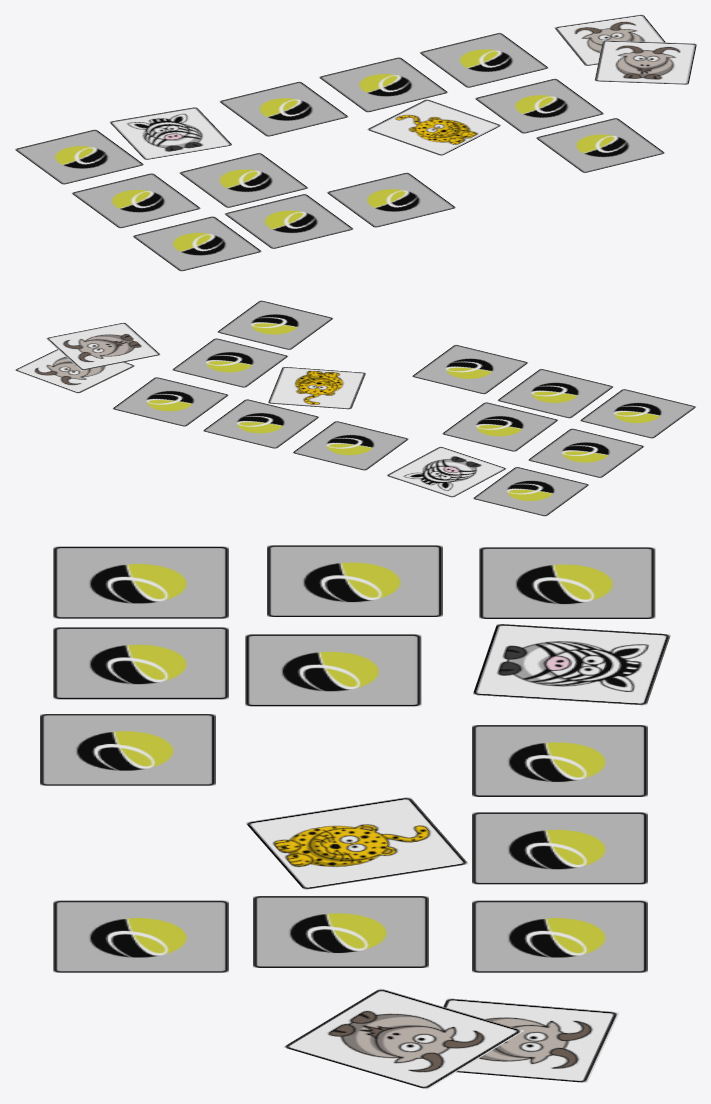
The model's file is MemoryTableObject.fbx.
3 renders of one model, top to bottom at view 1: azimuth 30°, elevation 25°; view 2: azimuth 150°, elevation 25°; view 3: azimuth 270°, elevation 25°, orthographic. The views are drawn at different scales.
Visible parts, largest first — view 1: pPlane14, pPlane2, pPlane6, pPlane9, pPlane12, pPlane15, pPlane3, pPlane4, pPlane5, pPlane8, pPlane10, pPlane11 (+3 smaller); view 2: pPlane1, pPlane14, pPlane2, pPlane3, pPlane4, pPlane5, pPlane12, pPlane7, pPlane8, pPlane9, pPlane6, pPlane11 (+3 smaller); view 3: pPlane11, pPlane6, pPlane7, pPlane9, pPlane12, pPlane15, pPlane1, pPlane14, pPlane2, pPlane3, pPlane4, pPlane5 (+3 smaller).
Boxes of the visible parts, x1=… form: pPlane14: x1=594, y1=40, x2=696, y2=84; pPlane2: x1=366, y1=99, x2=501, y2=155; pPlane6: x1=318, y1=57, x2=448, y2=112; pPlane9: x1=535, y1=117, x2=665, y2=173; pPlane12: x1=224, y1=193, x2=353, y2=249; pPlane15: x1=132, y1=216, x2=262, y2=271; pPlane3: x1=14, y1=129, x2=144, y2=184; pPlane4: x1=326, y1=172, x2=455, y2=227; pPlane5: x1=219, y1=81, x2=348, y2=136; pPlane8: x1=474, y1=78, x2=604, y2=133; pPlane10: x1=71, y1=173, x2=201, y2=228; pPlane11: x1=178, y1=152, x2=308, y2=208; pPlane1: x1=386, y1=446, x2=506, y2=497; pPlane14: x1=45, y1=322, x2=160, y2=370; pPlane2: x1=268, y1=367, x2=365, y2=409; pPlane3: x1=472, y1=466, x2=589, y2=516; pPlane4: x1=412, y1=344, x2=528, y2=394; pPlane5: x1=292, y1=421, x2=409, y2=470; pPlane12: x1=497, y1=368, x2=613, y2=418; pPlane7: x1=112, y1=377, x2=228, y2=426; pPlane8: x1=171, y1=338, x2=288, y2=387; pPlane9: x1=217, y1=300, x2=333, y2=350; pPlane6: x1=202, y1=399, x2=319, y2=448; pPlane11: x1=441, y1=402, x2=558, y2=451; pPlane11: x1=245, y1=634, x2=421, y2=706; pPlane6: x1=472, y1=812, x2=647, y2=884; pPlane7: x1=472, y1=900, x2=647, y2=972; pPlane9: x1=53, y1=900, x2=228, y2=972; pPlane12: x1=53, y1=627, x2=228, y2=699; pPlane15: x1=53, y1=546, x2=228, y2=618; pPlane1: x1=472, y1=623, x2=670, y2=705; pPlane14: x1=283, y1=988, x2=523, y2=1089; pPlane2: x1=245, y1=797, x2=468, y2=889; pPlane3: x1=479, y1=547, x2=655, y2=618; pPlane4: x1=40, y1=714, x2=215, y2=785; pPlane5: x1=472, y1=725, x2=647, y2=796.
Size of the model in its own units: 14.81 by 0.02 by 7.23.
4 materials, 4 textured.
